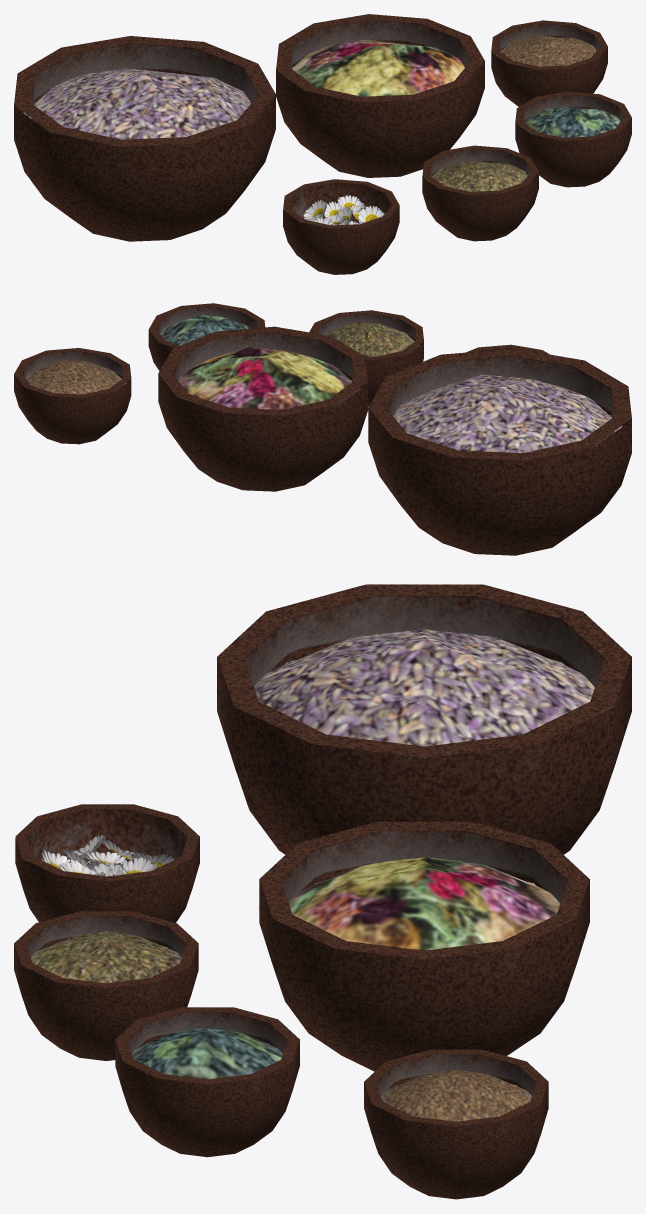
Rendered from herb_bowls.glb.
3 renders of one model, top to bottom at view 1: azimuth 30°, elevation 25°; view 2: azimuth 150°, elevation 25°; view 3: azimuth 270°, elevation 25°, orthographic. The views are drawn at different scales.
Parts seen in each view (by area): view 1: Herb_Bowl (×6), Herb_Plane (×5); view 2: Herb_Bowl (×5), Herb_Plane (×5); view 3: Herb_Bowl (×6), Herb_Plane (×5).
Boxes of the visible parts, <box> form: Herb_Bowl (×6): <box>14,14,631,274</box>; Herb_Plane (×5): <box>23,35,620,191</box>; Herb_Bowl (×5): <box>14,303,631,555</box>; Herb_Plane (×5): <box>25,315,622,452</box>; Herb_Bowl (×6): <box>14,584,631,1199</box>; Herb_Plane (×5): <box>30,629,594,1121</box>.
Bounding box in the file's own units: 4.96 × 1.12 × 2.92.
Materials: 1 (1 with a texture image).
